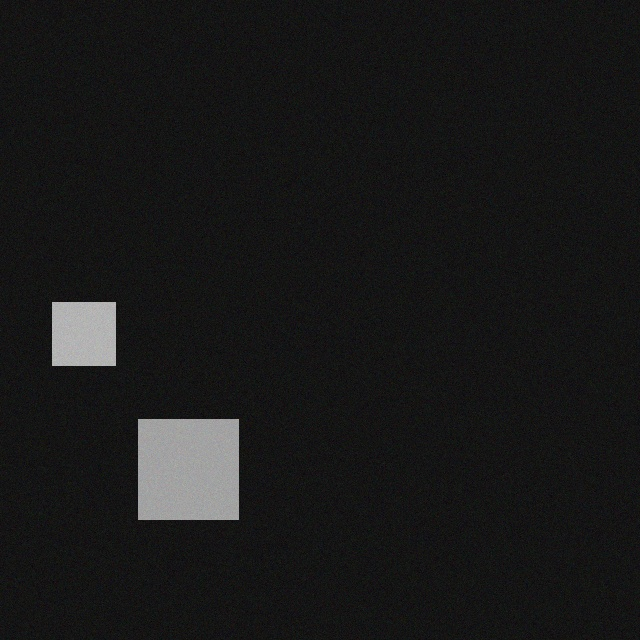square: (145, 422, 245, 522), (59, 305, 122, 368)
